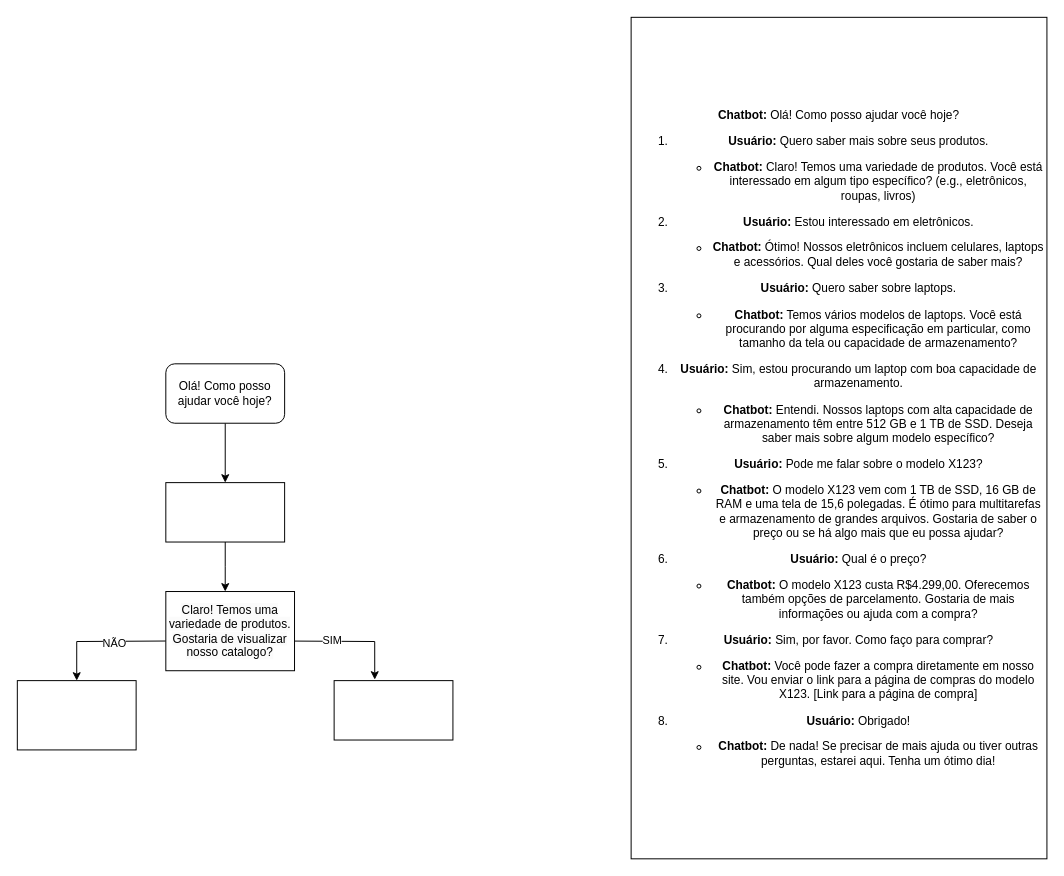
This 1064x876 diagram has some shape labels left out. Here are the shapes that lost their labels. From the top down, the centre of each, then its label:
(x=225, y=512): Retorno do usuário
(x=76, y=715): Se precisar de ajuda, estarei aqui. Tenha um ótimo dia!
